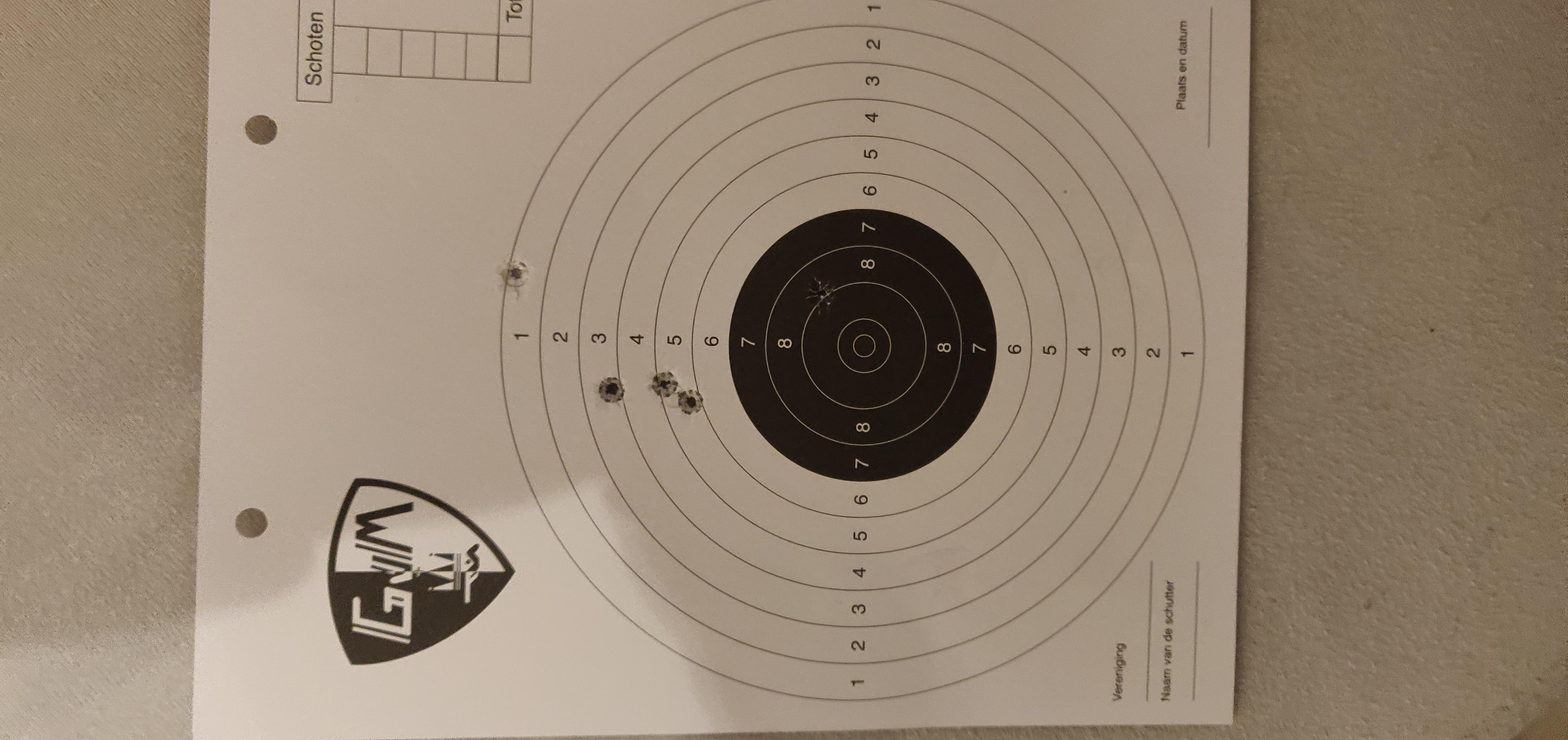hole: (906, 381, 980, 394), (712, 281, 770, 295), (727, 307, 785, 321), (956, 237, 1019, 249), (688, 319, 746, 332)
